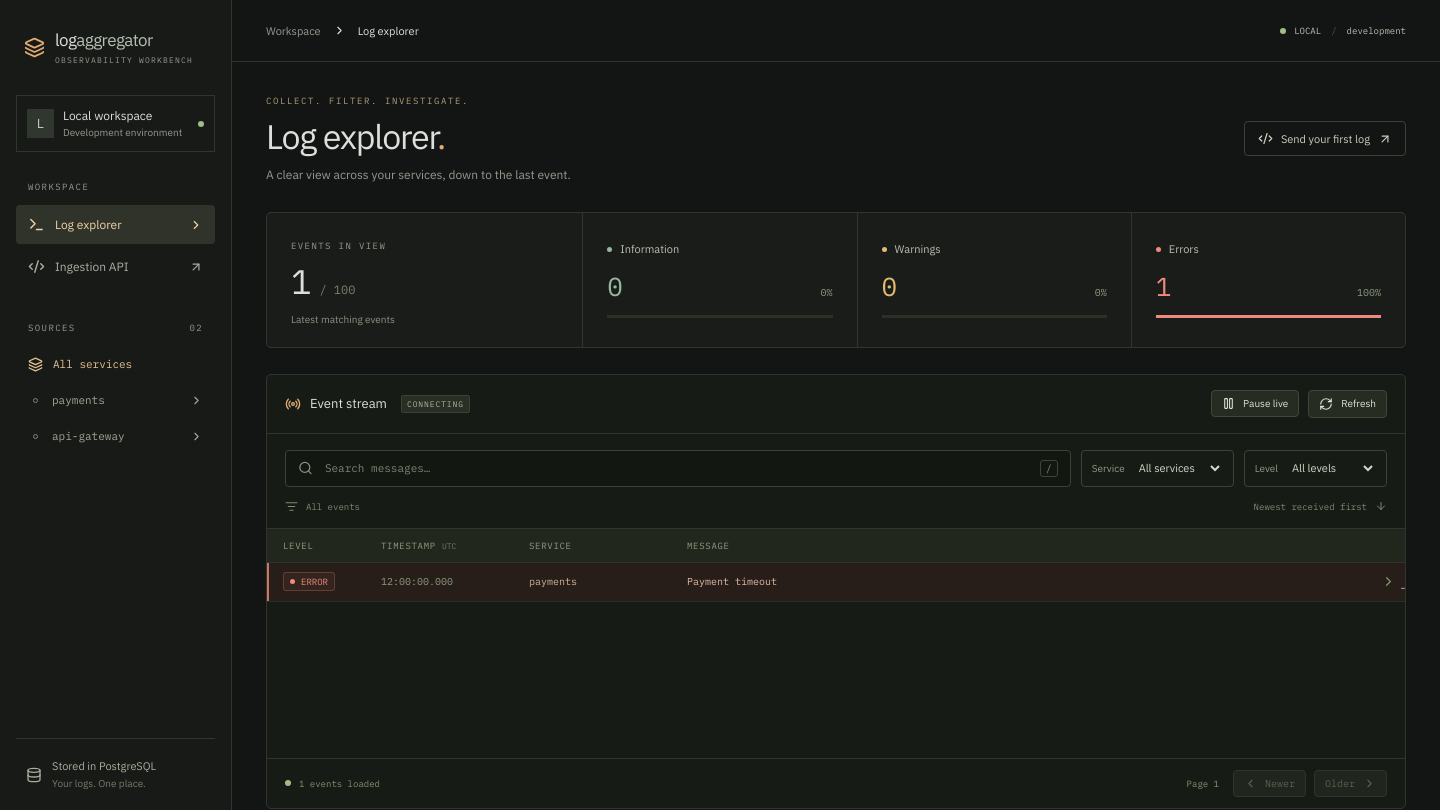
Test: keeps existing rows visible during a manual refresh
The width and height of the screenshot is (1440, 810).
Expected: the button "Payment timeout" is shown, [687,566,1369,598]
Click the button "Refresh". click: [1348, 404]
box: [1308,390,1387,418]
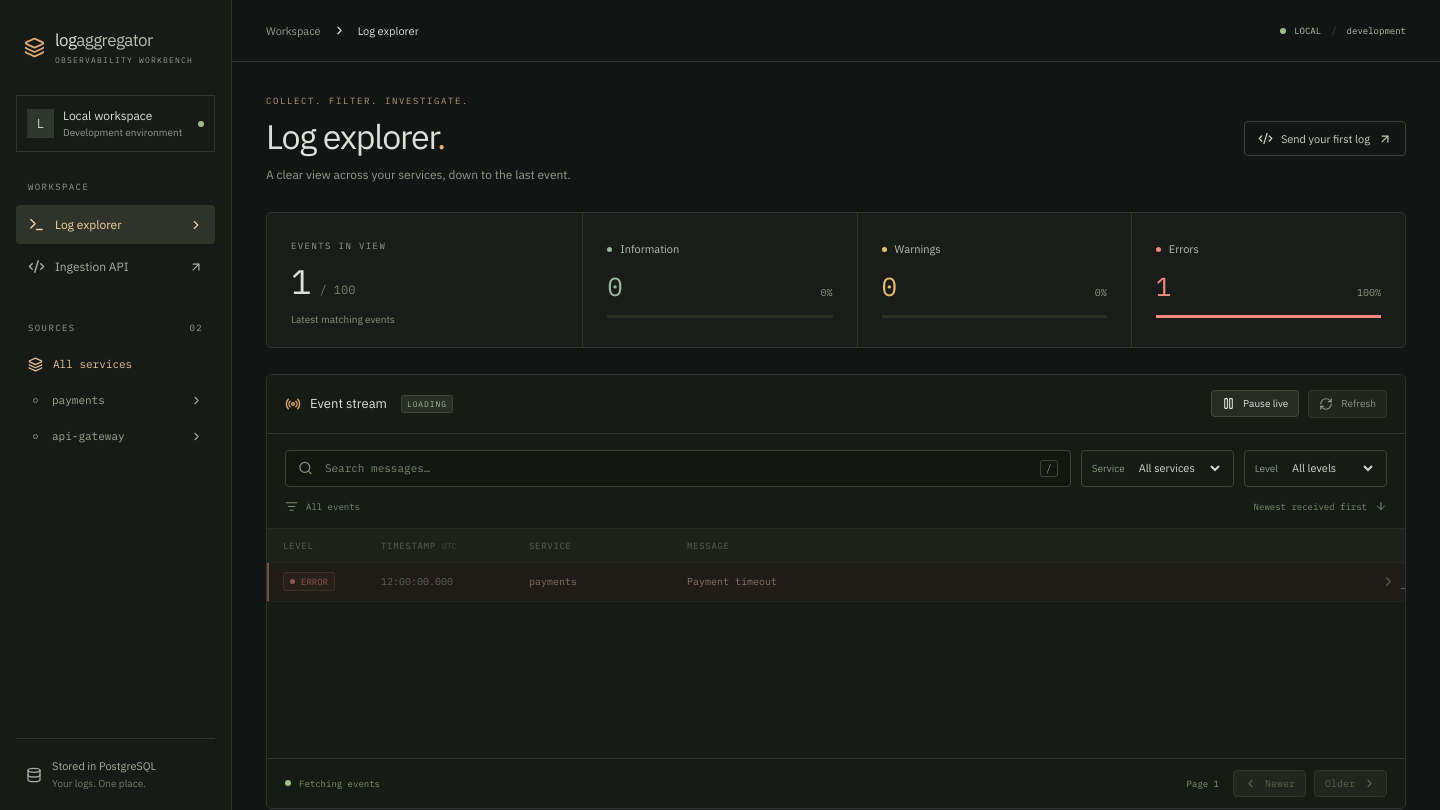
Expected: the button "Payment timeout" is shown, [687,566,1369,598]
Now the message reads "LOADING", box [407,399,447,409]
